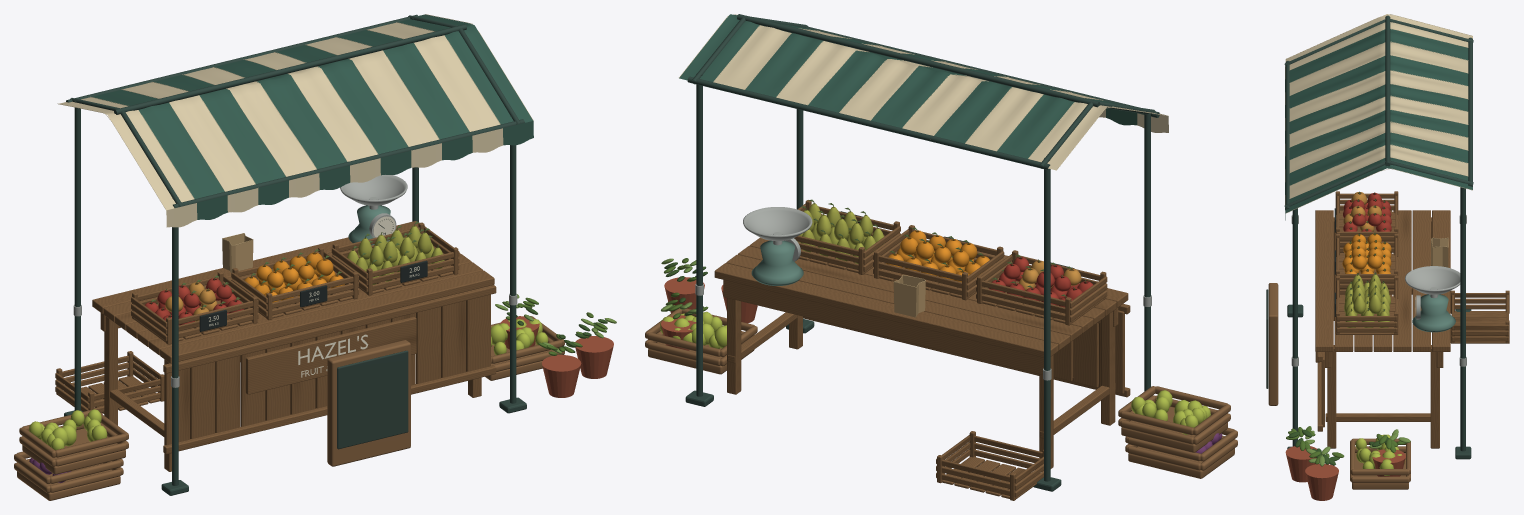
The model's file is hazel-fruit-stall-city.glb.
3 renders of one model, left to right at view 1: azimuth 30°, elevation 25°; view 2: azimuth 150°, elevation 25°; view 3: azimuth 270°, elevation 25°, orthographic. The views are drawn at different scales.
Visible parts, largest first — view 1: Stall_structure__unbleached canvas, Stall_structure__worn honey timber, Stall_structure__painted iron frame, Produce_display__worn honey timber, HazelDressing • crate honey oak, HazelDressing • sign chalkboard, HazelDressing • rusted flower pot, HazelDressing • pear skin, Produce_display__orange rind, Produce_display__pear yellow green, Stall_structure__unbleached canvas.001, Scale_and_service__scale bowl and fittings (+5 smaller); view 2: Stall_structure__unbleached canvas, Stall_structure__worn honey timber, Stall_structure__painted iron frame, Produce_display__worn honey timber, HazelDressing • crate honey oak, HazelDressing • pear skin, Produce_display__orange rind, Produce_display__pear yellow green, Scale_and_service__scale bowl and fittings, Produce_display__apple crimson, Scale_and_service__enamel weighing scale, HazelDressing • rusted flower pot (+3 smaller); view 3: Stall_structure__unbleached canvas, Stall_structure__worn honey timber, Stall_structure__painted iron frame, Produce_display__worn honey timber, HazelDressing • crate honey oak, Stall_structure__unbleached canvas.001, HazelDressing • rusted flower pot, Produce_display__orange rind, Produce_display__pear yellow green, Scale_and_service__scale bowl and fittings, Produce_display__apple crimson, Scale_and_service__enamel weighing scale (+8 smaller).
Part boxes in pixels (x1,y1,x2,y2): Stall_structure__unbleached canvas: [59, 14, 533, 227]; Stall_structure__worn honey timber: [92, 221, 496, 471]; Stall_structure__painted iron frame: [64, 14, 526, 495]; Produce_display__worn honey timber: [55, 222, 459, 414]; HazelDressing • crate honey oak: [14, 316, 564, 500]; HazelDressing • sign chalkboard: [337, 350, 408, 449]; HazelDressing • rusted flower pot: [500, 316, 613, 397]; HazelDressing • pear skin: [29, 319, 548, 450]; Produce_display__orange rind: [244, 252, 344, 302]; Produce_display__pear yellow green: [347, 225, 444, 284]; Stall_structure__unbleached canvas.001: [57, 14, 533, 210]; Scale_and_service__scale bowl and fittings: [340, 175, 407, 237]; Stall_structure__unbleached canvas: [679, 14, 1168, 170]; Stall_structure__worn honey timber: [714, 233, 1130, 468]; Stall_structure__painted iron frame: [685, 14, 1159, 491]; Produce_display__worn honey timber: [794, 200, 1107, 500]; HazelDressing • crate honey oak: [645, 251, 1237, 478]; HazelDressing • pear skin: [660, 311, 1210, 434]; Produce_display__orange rind: [886, 230, 989, 282]; Produce_display__pear yellow green: [797, 203, 884, 263]; Scale_and_service__scale bowl and fittings: [743, 207, 812, 261]; Produce_display__apple crimson: [989, 257, 1095, 307]; Scale_and_service__enamel weighing scale: [751, 240, 803, 285]; HazelDressing • rusted flower pot: [661, 277, 757, 350]; Stall_structure__unbleached canvas: [1285, 14, 1472, 220]; Stall_structure__worn honey timber: [1315, 210, 1450, 448]; Stall_structure__painted iron frame: [1284, 15, 1473, 459]; Produce_display__worn honey timber: [1335, 191, 1509, 343]; HazelDressing • crate honey oak: [1268, 283, 1410, 489]; Stall_structure__unbleached canvas.001: [1286, 14, 1472, 213]; HazelDressing • rusted flower pot: [1285, 446, 1405, 500]; Produce_display__orange rind: [1342, 233, 1391, 273]; Produce_display__pear yellow green: [1344, 274, 1390, 327]; Scale_and_service__scale bowl and fittings: [1405, 266, 1460, 319]; Produce_display__apple crimson: [1343, 192, 1391, 231]; Scale_and_service__enamel weighing scale: [1412, 294, 1455, 332].
Bounding box in the file's own units: 4.62 × 2.68 × 2.
23 materials, 1 textured.
